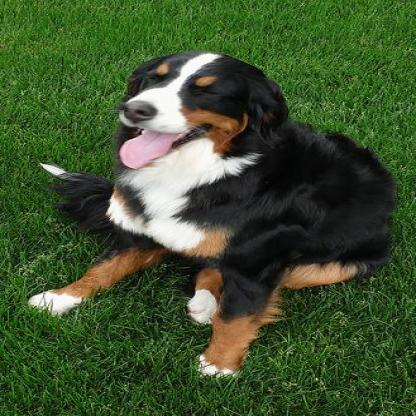Bernese_mountain_dog: (22, 50, 400, 380)
